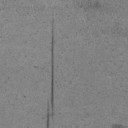surface scratch: (46, 20, 54, 128), (112, 124, 122, 128), (94, 2, 100, 8)
